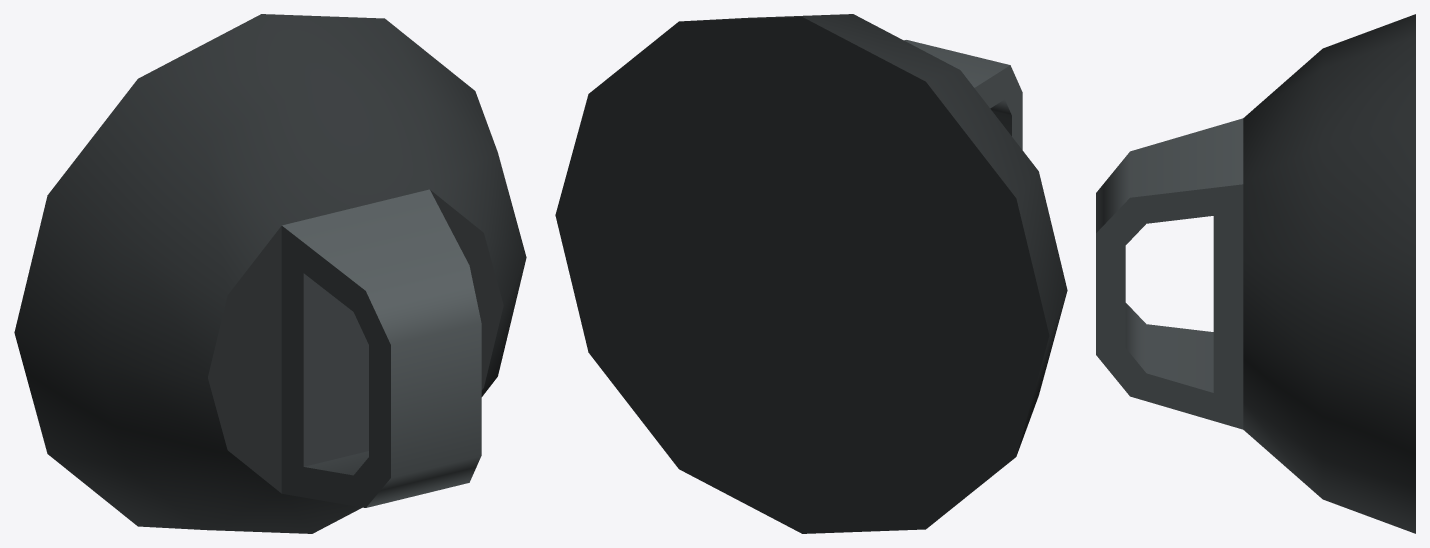
Rendered from Charm_Hook_03.fbx.
3 renders of one model, left to right at view 1: azimuth 30°, elevation 25°; view 2: azimuth 150°, elevation 25°; view 3: azimuth 270°, elevation 25°, orthographic. The views are drawn at different scales.
Parts seen in each view (by area): view 1: Charm_Hook_03; view 2: Charm_Hook_03; view 3: Charm_Hook_03.
Boxes of the visible parts, x1,y1,x2,y2 form: Charm_Hook_03: [14, 14, 526, 533]; Charm_Hook_03: [555, 14, 1067, 533]; Charm_Hook_03: [1096, 14, 1415, 533].
Bounding box in the file's own units: 1.87 × 1.87 × 1.15.
